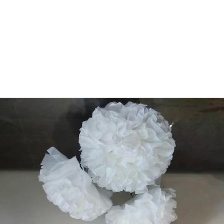tissue: (72, 97, 181, 196), (32, 142, 117, 224), (98, 181, 181, 223)
